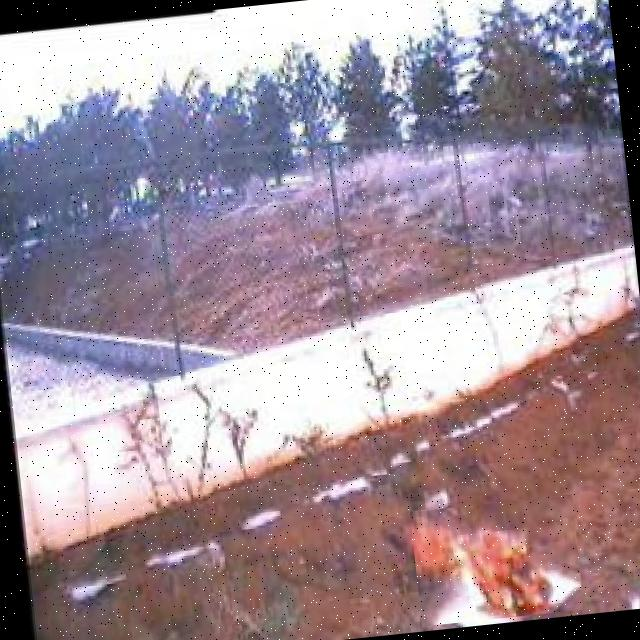fire: (410, 494, 584, 626)
